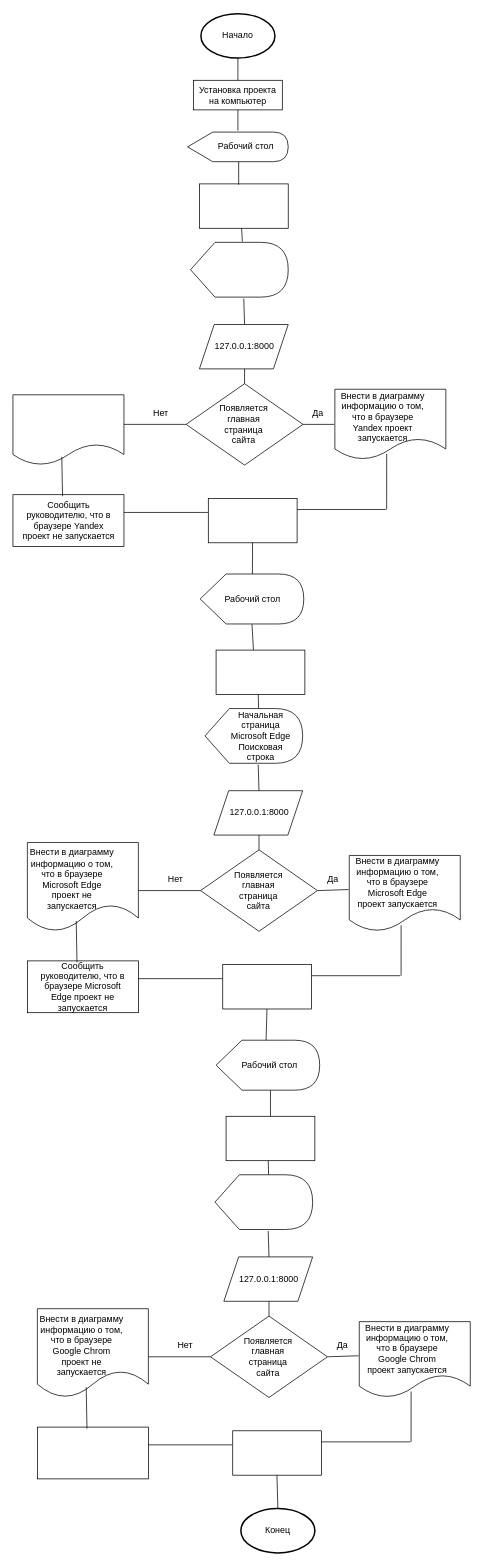
This 483x1566 diagram has some shape labels left out. Each missing label, with the box of its shape:
Внести в диаграмму информацию о том, что в браузере Yandex проект не запускается: (12, 394, 124, 465)
Закрыть браузер Google Chrom: (232, 1430, 322, 1475)
Закрыть браузер Microsoft Edge: (222, 964, 312, 1009)
Закрыть браузер Yandex: (208, 498, 297, 543)
Кликнуть на иконку браузера Google Chrom: (225, 1116, 315, 1161)
Кликнуть на иконку браузера Microsoft Edge: (215, 649, 305, 694)
Кликнуть на иконку браузера Yandex: (199, 183, 288, 228)
Начальная страница Google Chrom Поисковая строка: (214, 1174, 313, 1230)
Начальная страница Yandex Поисковая строка: (190, 242, 288, 297)
Сообщить руководителю, что в браузере Google Chrom проект не запускается: (37, 1426, 148, 1479)
